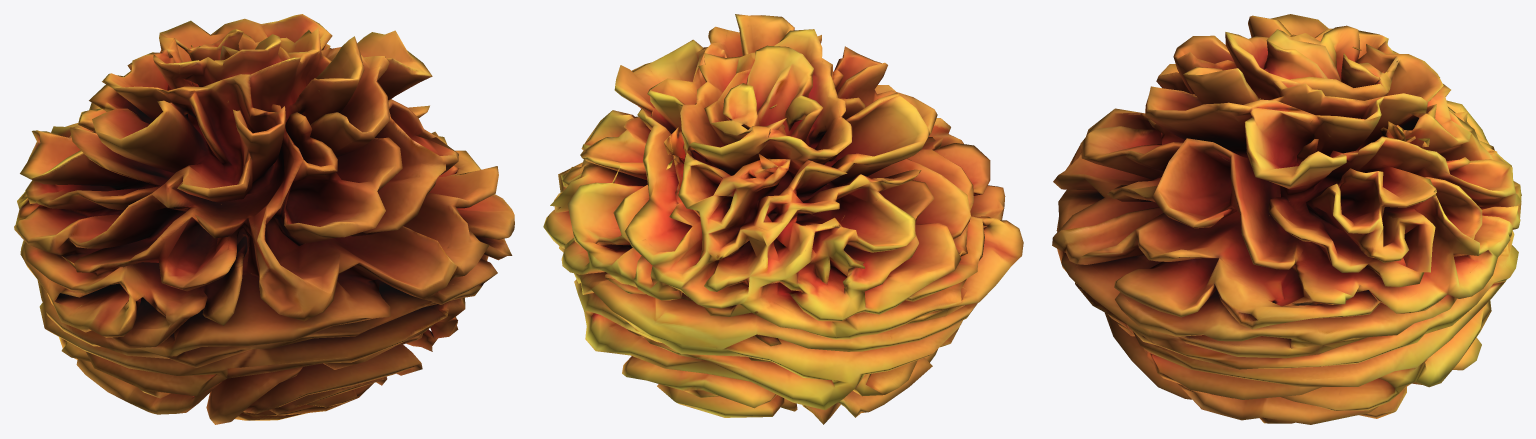
The model's file is flor.obj.
3 renders of one model, left to right at view 1: azimuth 30°, elevation 25°; view 2: azimuth 150°, elevation 25°; view 3: azimuth 270°, elevation 25°, orthographic. The views are drawn at different scales.
Parts seen in each view (by area): view 1: base:Mesh; view 2: base:Mesh; view 3: base:Mesh.
Part boxes in pixels (bbox=[...]): base:Mesh: bbox=[14, 14, 514, 424]; base:Mesh: bbox=[543, 14, 1023, 424]; base:Mesh: bbox=[1052, 14, 1521, 424].
Size of the model in its own units: 0.1585 by 0.1216 by 0.15.
1 material, 1 textured.
